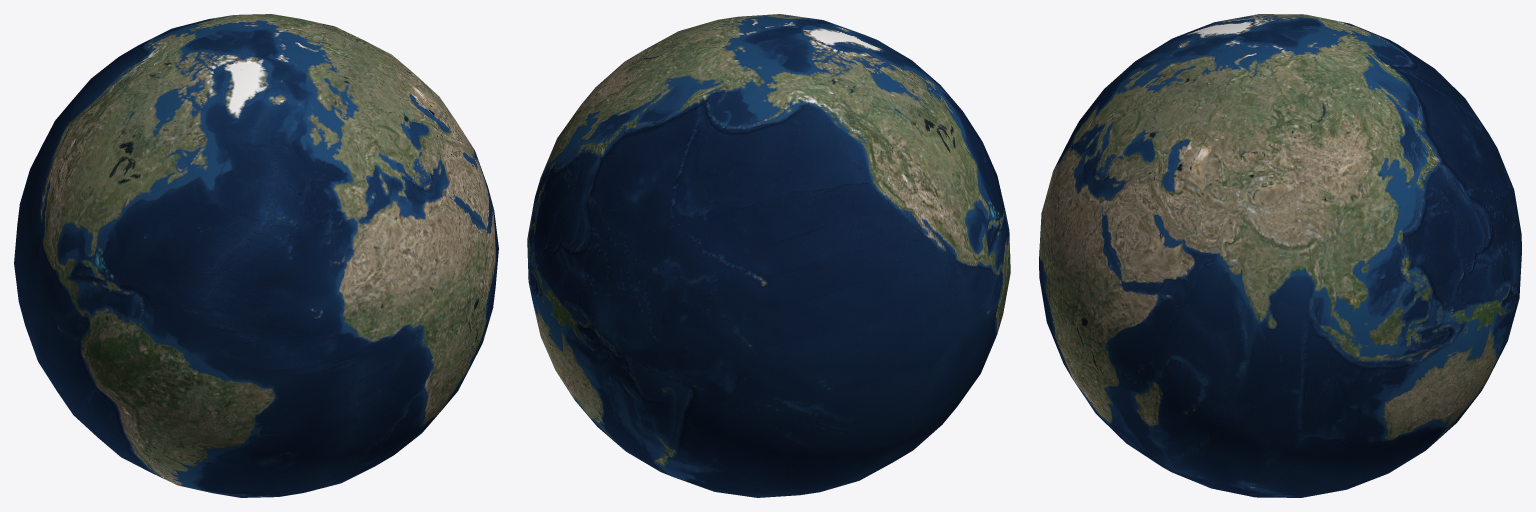
File: Earth 2K.obj
3 views of the same model, side by side, from view 1: azimuth 30°, elevation 25°; view 2: azimuth 150°, elevation 25°; view 3: azimuth 270°, elevation 25° (orthographic).
Visible parts, largest first — view 1: Earth; view 2: Earth; view 3: Earth.
Boxes of the visible parts, x1,y1,x2,y2 form: Earth: (14, 14, 498, 497); Earth: (527, 14, 1010, 497); Earth: (1039, 14, 1521, 497).
Size of the model in its own units: 6.24 by 6.26 by 6.24.
Materials: 1 (1 with a texture image).
